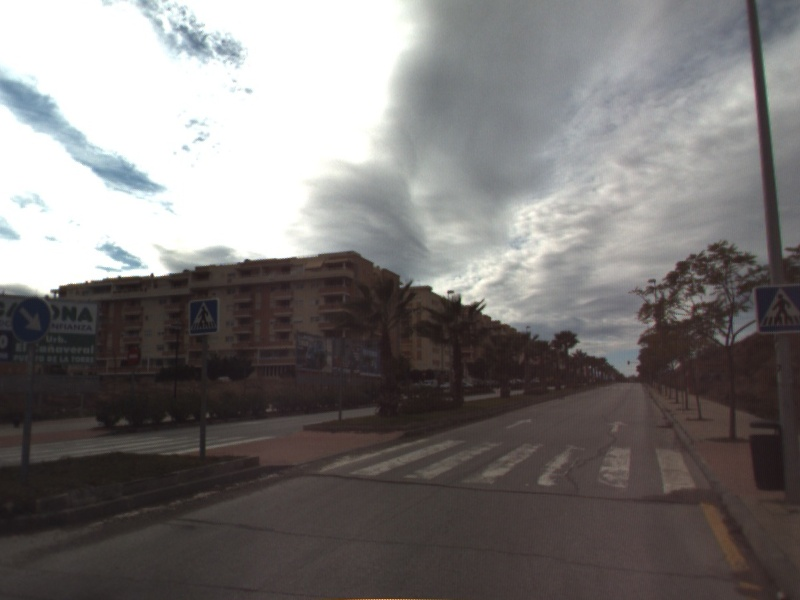STRAIGHT: (503, 416, 534, 431), (606, 418, 630, 435)
